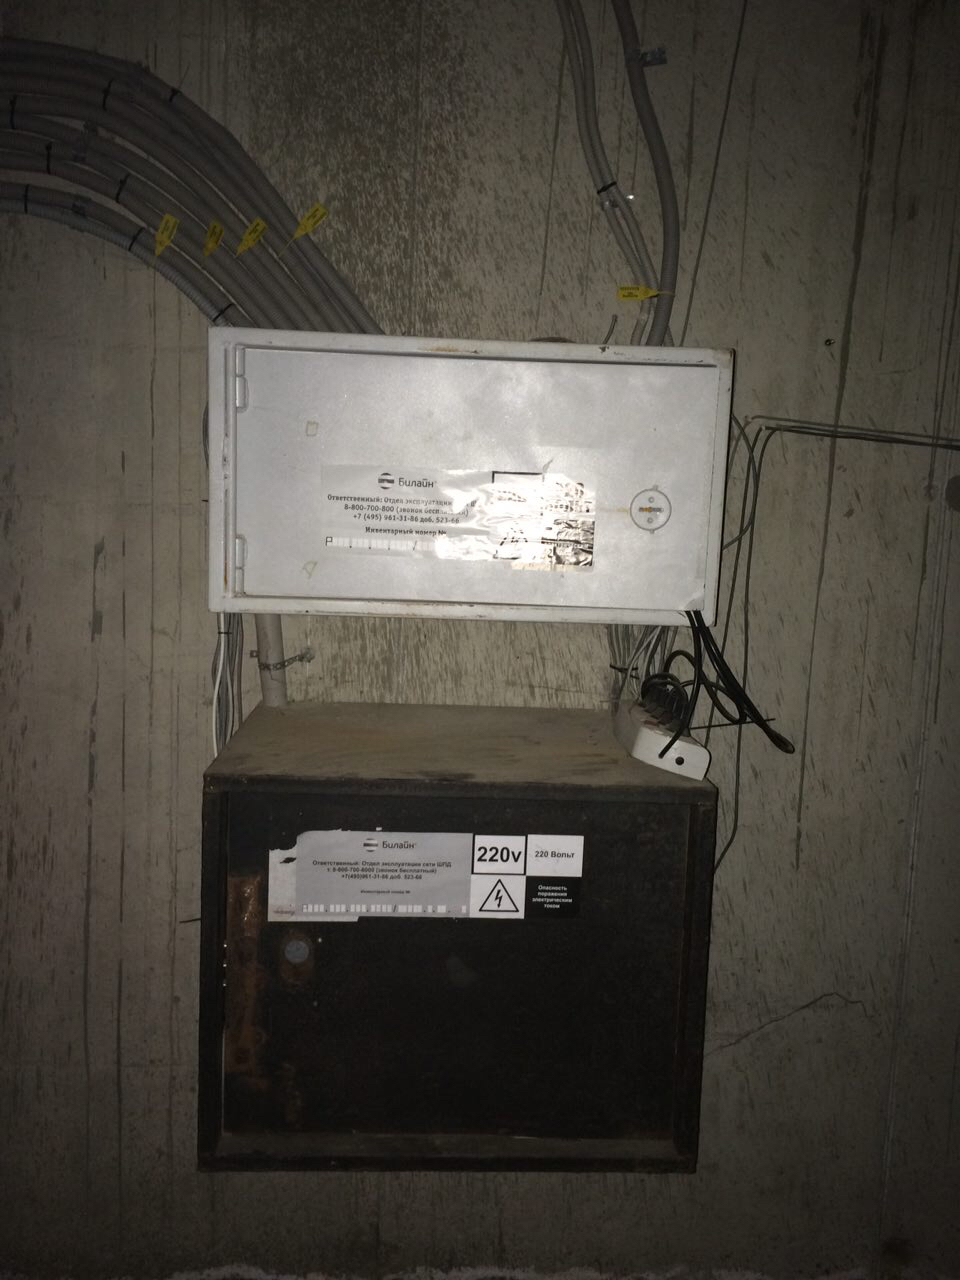shta-7m: (202, 319, 740, 630)
shta-9m: (191, 695, 725, 1177)
